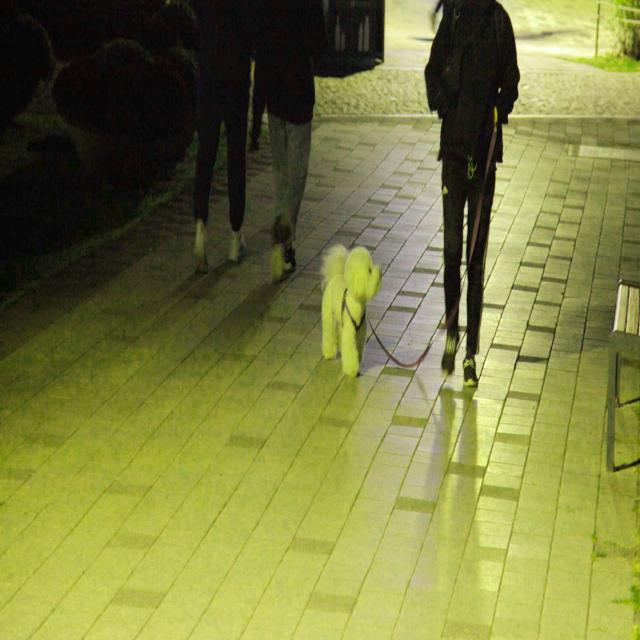Leashed_Dog: (322, 175, 466, 380)
